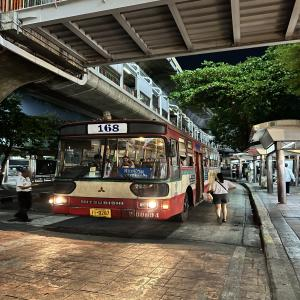BMTA-bus: (46, 119, 215, 221)
Bus Line Number: (94, 124, 122, 132)
Bus Side Number: (124, 210, 163, 219)
Destination Sign: (120, 166, 152, 178)
